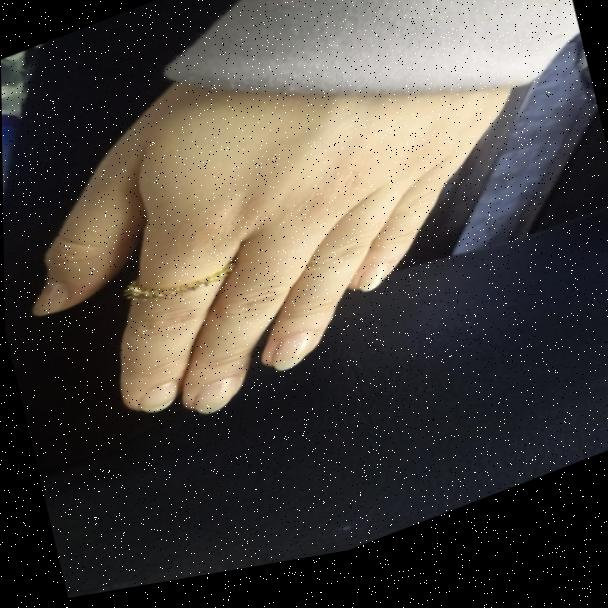five: (1, 0, 528, 481)
